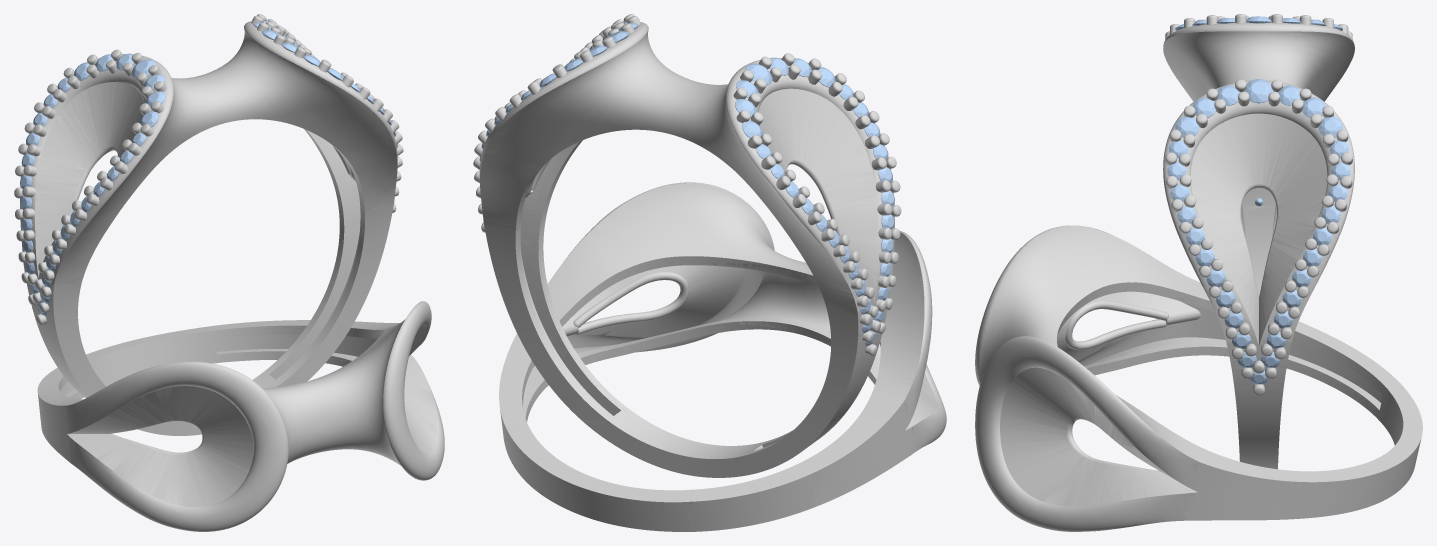
The picture shows the model from 3 angles, left to right: view 1: azimuth 30°, elevation 25°; view 2: azimuth 150°, elevation 25°; view 3: azimuth 270°, elevation 25°; orthographic projection. The views are drawn at different scales.
Parts seen in each view (by area): view 1: AN 4930863_mina+ring MODIFICADO RENDER.3dm, object 1; view 2: AN 4930863_mina+ring MODIFICADO RENDER.3dm, object 1; view 3: object 1, AN 4930863_mina+ring MODIFICADO RENDER.3dm, Gems.
Part boxes in pixels (bbox=[...]): AN 4930863_mina+ring MODIFICADO RENDER.3dm: bbox=[14, 14, 403, 435]; object 1: bbox=[37, 301, 444, 531]; AN 4930863_mina+ring MODIFICADO RENDER.3dm: bbox=[473, 14, 901, 477]; object 1: bbox=[499, 182, 946, 531]; object 1: bbox=[975, 225, 1422, 531]; AN 4930863_mina+ring MODIFICADO RENDER.3dm: bbox=[1163, 14, 1354, 469]; Gems: bbox=[1244, 79, 1273, 103].
Size of the model in its own units: 2.27 by 2.35 by 2.31.
